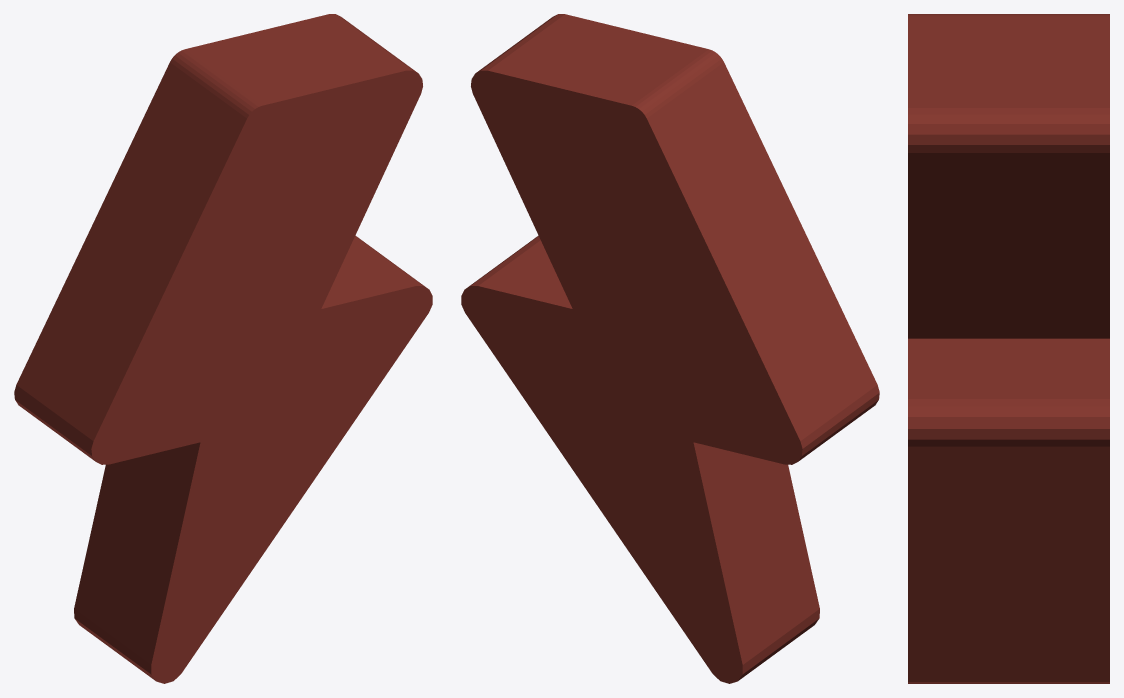
The model's file is power_bolt.glb.
3 views of the same model, side by side, from view 1: azimuth 30°, elevation 25°; view 2: azimuth 150°, elevation 25°; view 3: azimuth 270°, elevation 25° (orthographic). The views are drawn at different scales.
Visible parts, largest first — view 1: Power bolt outline; view 2: Power bolt outline; view 3: Power bolt outline.
Part boxes in pixels (x1=…): Power bolt outline: x1=14, y1=14, x2=432, y2=683; Power bolt outline: x1=461, y1=14, x2=879, y2=683; Power bolt outline: x1=908, y1=14, x2=1109, y2=683.
Size of the model in its own units: 0.6891 by 1.07 by 0.27.
